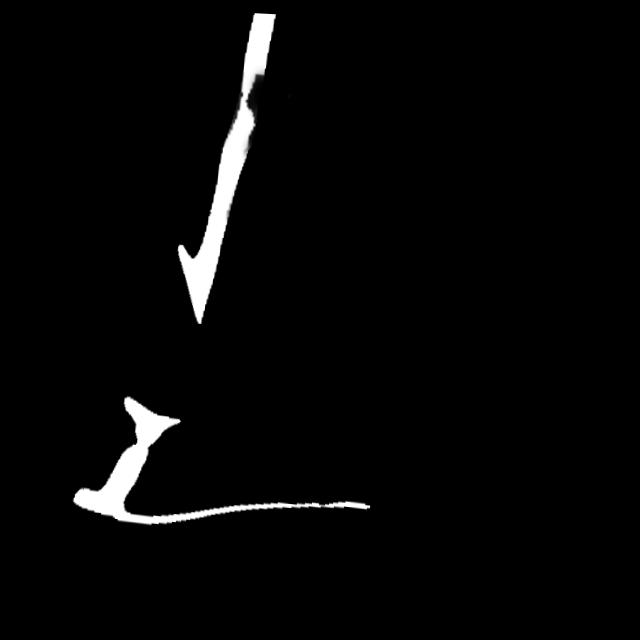sl: (225, 58, 274, 127)
